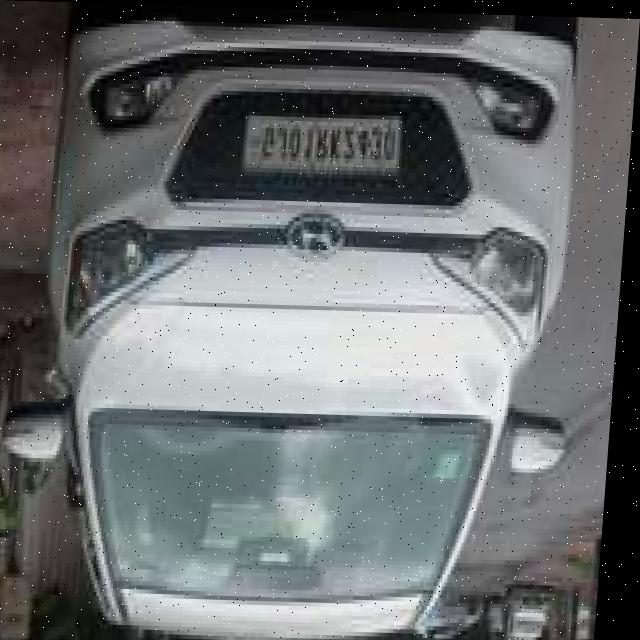plate: (243, 105, 407, 177)
